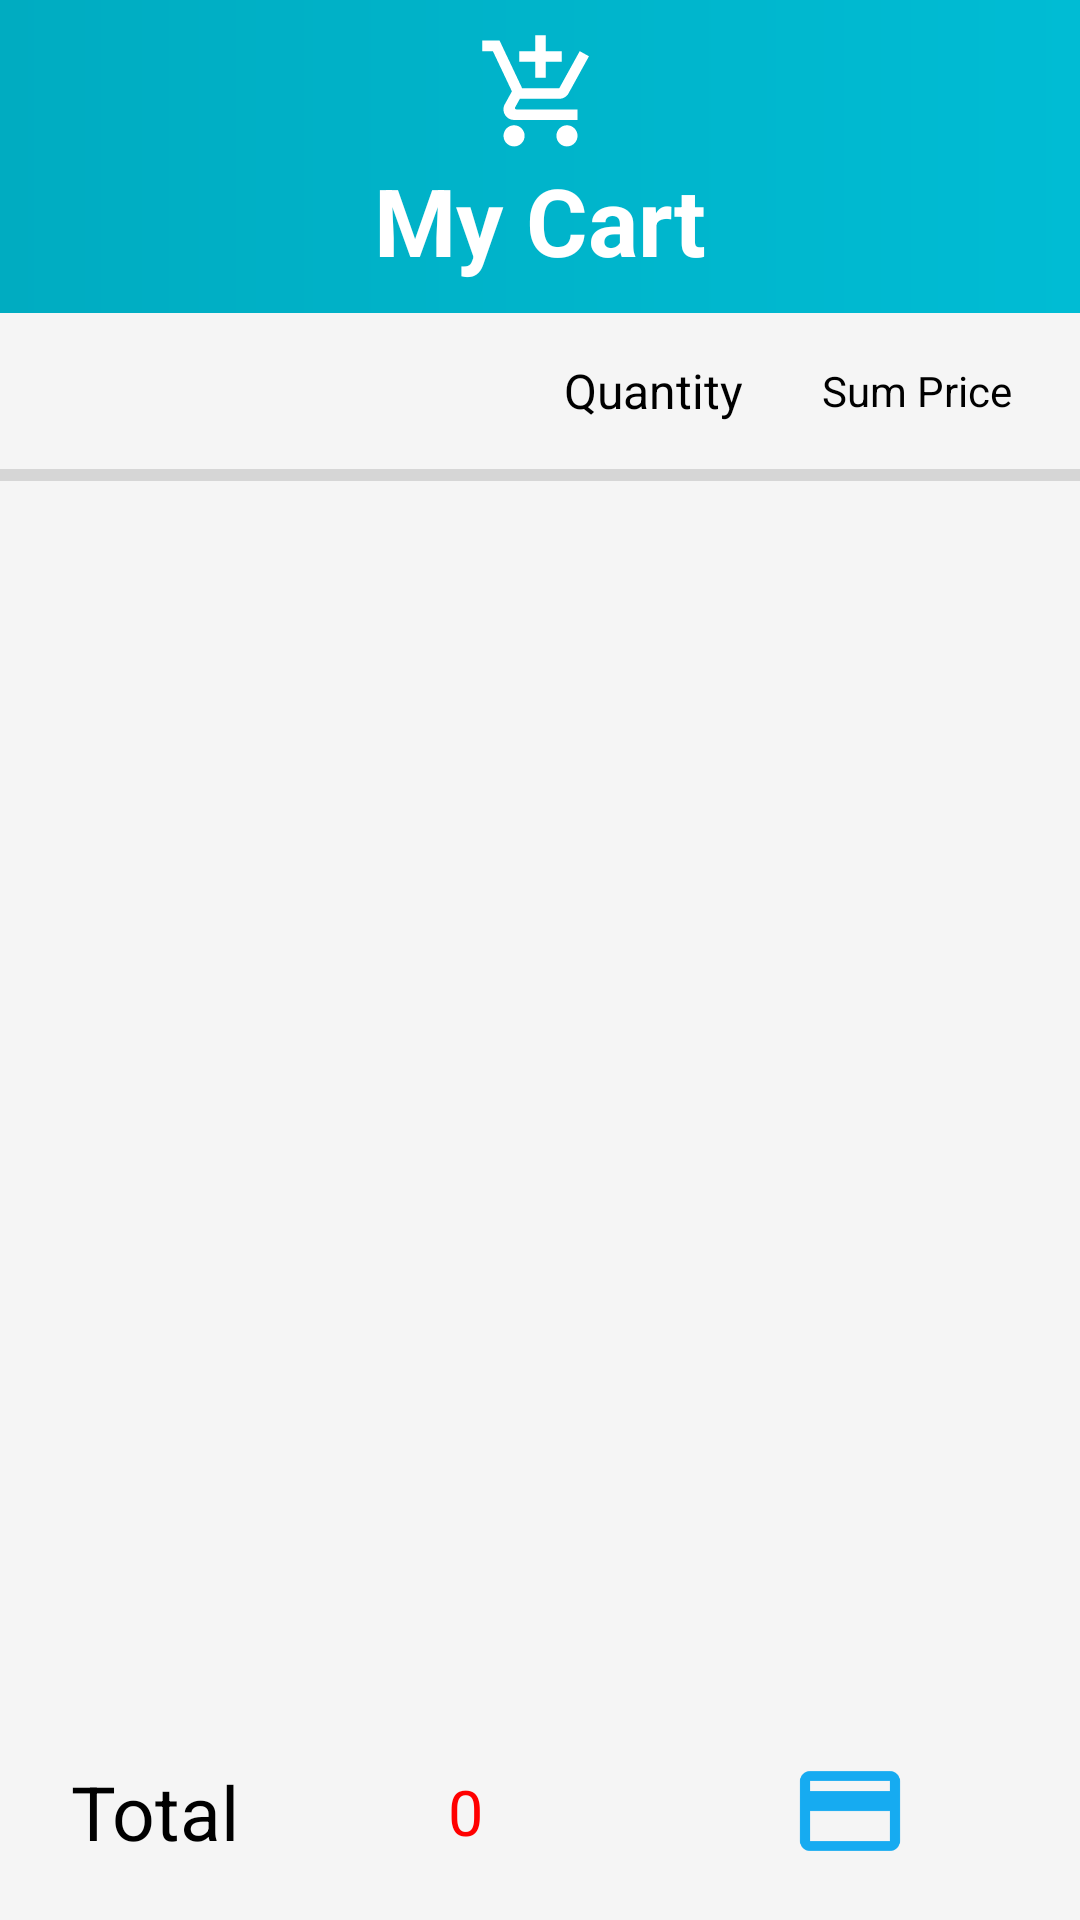

Icons on this 1080px x 1920px Android screen, each with its box as (x1, y1, x2, y2):
add shopping cart: (482, 35, 589, 147)
payment: (800, 1771, 900, 1851)
